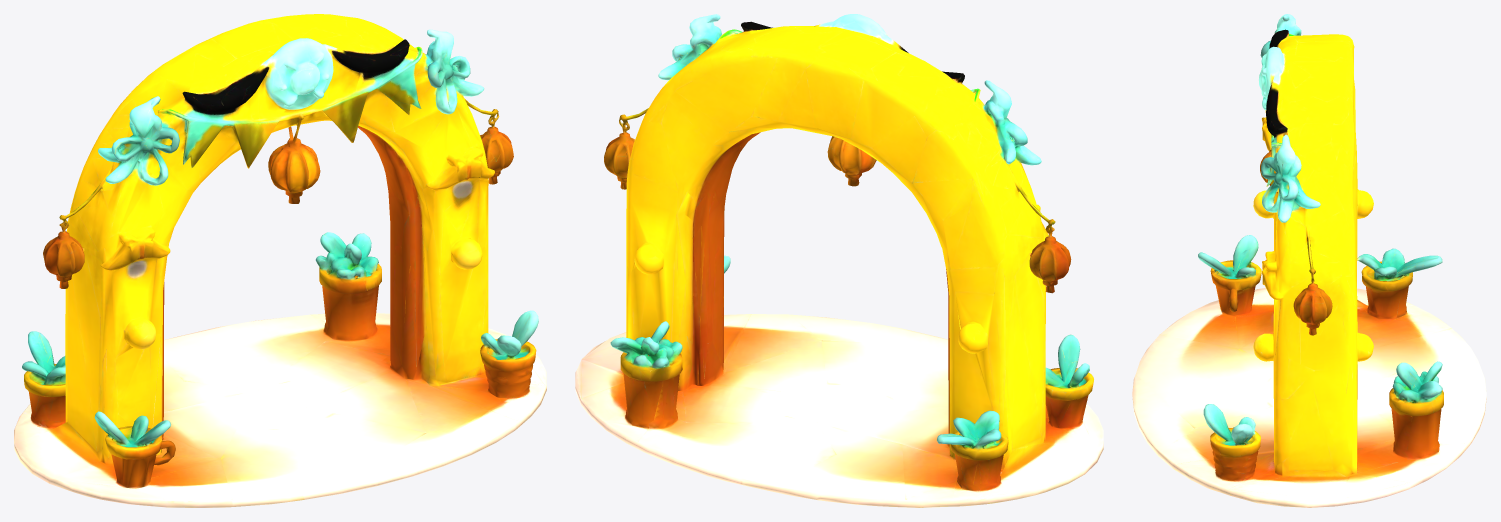
The model's file is clay-festival-arch.glb.
3 views of the same model, side by side, from view 1: azimuth 30°, elevation 25°; view 2: azimuth 150°, elevation 25°; view 3: azimuth 270°, elevation 25° (orthographic). The views are drawn at different scales.
Size of the model in its own units: 1.91 by 1.43 by 1.31.
1 material, 1 textured.
